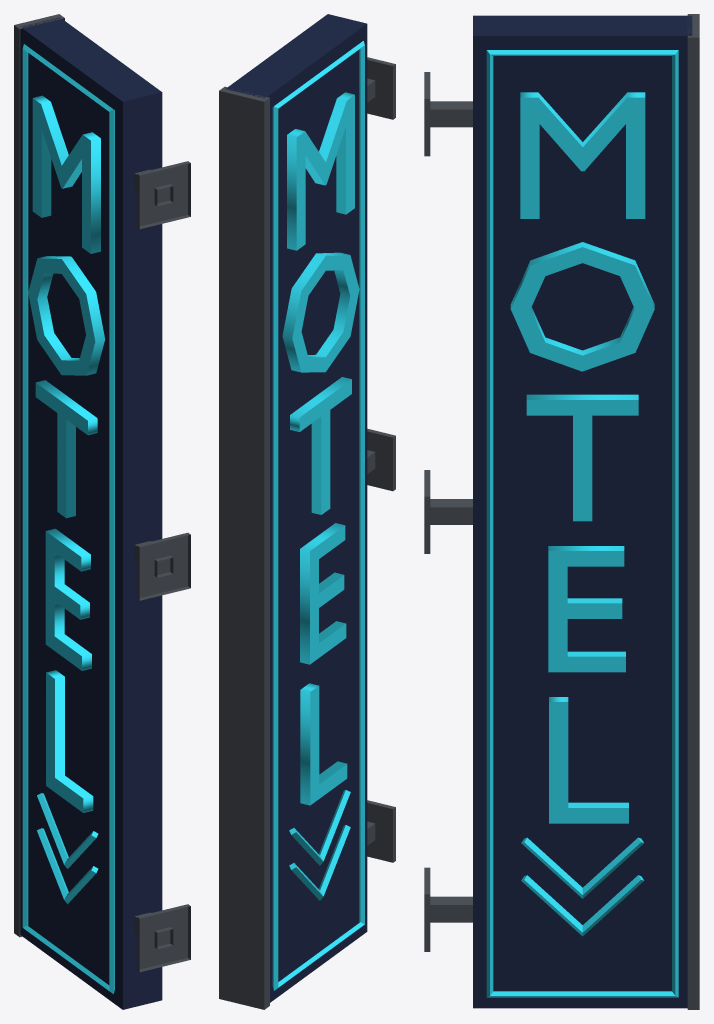
File: sign_blade_motel.glb
3 views of the same model, side by side, from view 1: azimuth 30°, elevation 25°; view 2: azimuth 150°, elevation 25°; view 3: azimuth 270°, elevation 25° (orthographic). The views are drawn at different scales.
Parts seen in each view (by area): view 1: sign_blade_motel__mesh; view 2: sign_blade_motel__mesh; view 3: sign_blade_motel__mesh.
Part boxes in pixels (box(x1,y1,x2,y2)): sign_blade_motel__mesh: box(14, 14, 190, 1009); sign_blade_motel__mesh: box(219, 14, 395, 1009); sign_blade_motel__mesh: box(424, 14, 699, 1009).
Size of the model in its own units: 0.3 by 4.4 by 1.13.
Materials: 1 (1 with a texture image).
